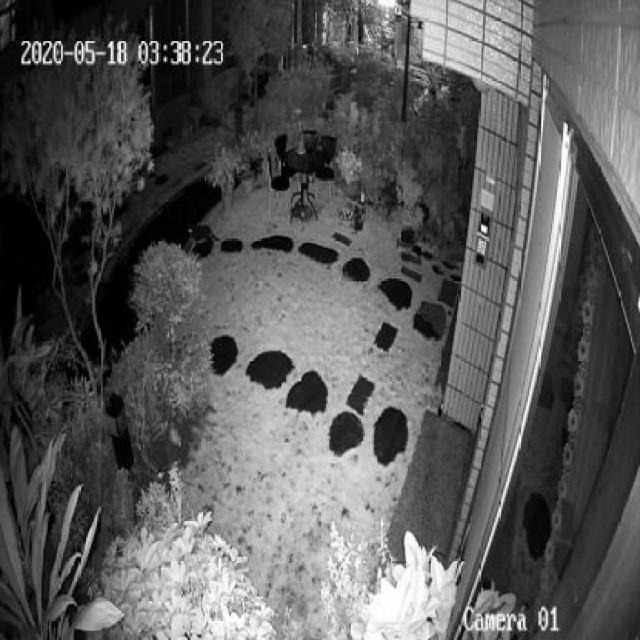animals: (187, 218, 221, 248)
